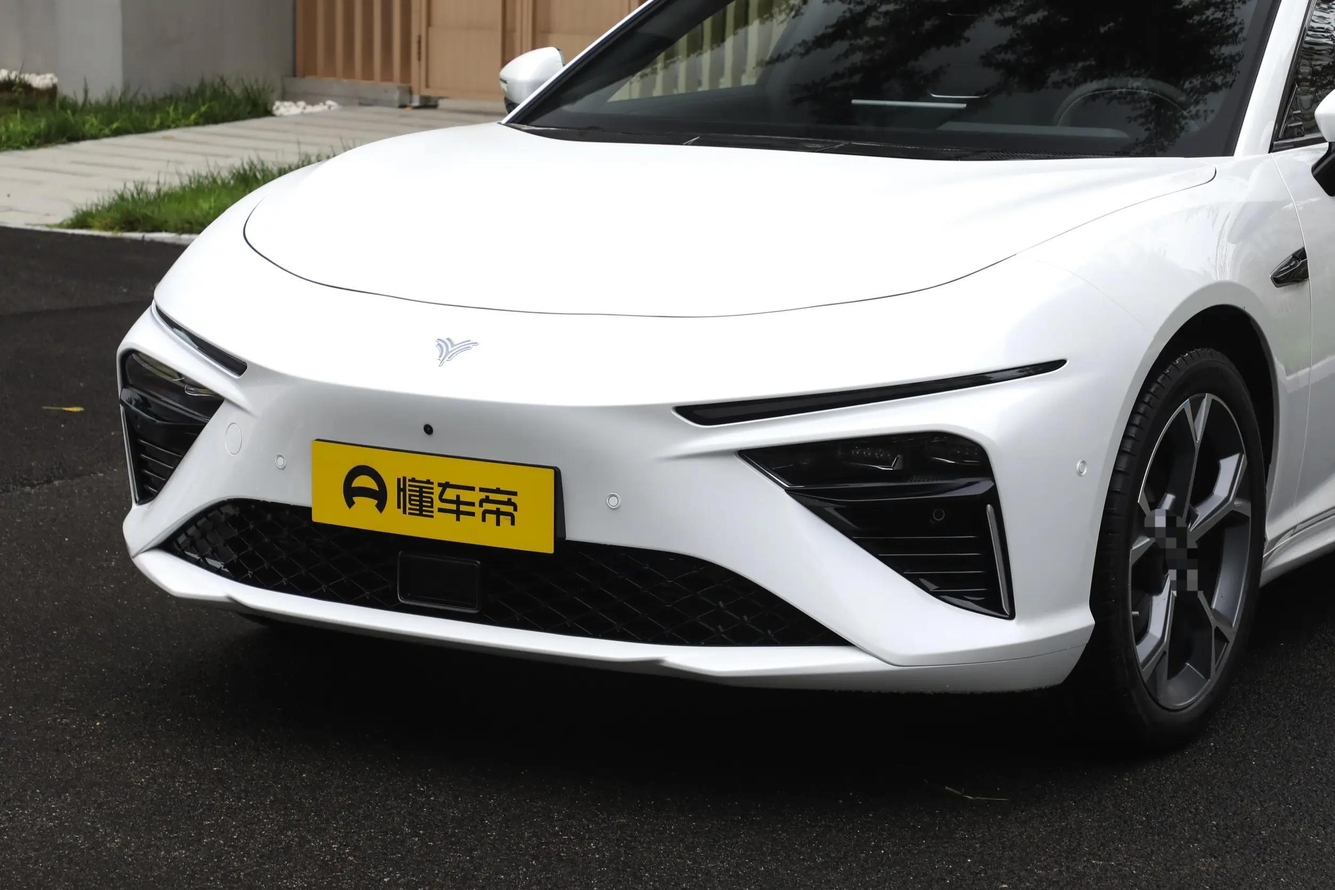NETA: (434, 337, 479, 366)
